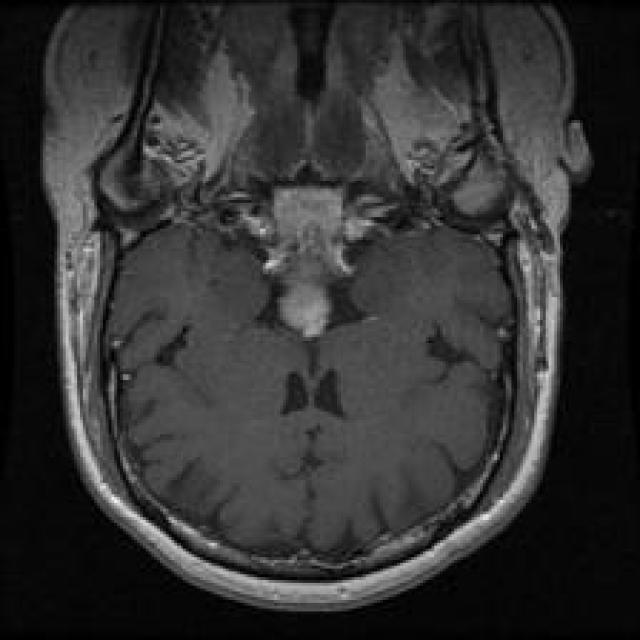pituitary_tumor: (242, 174, 376, 348)
